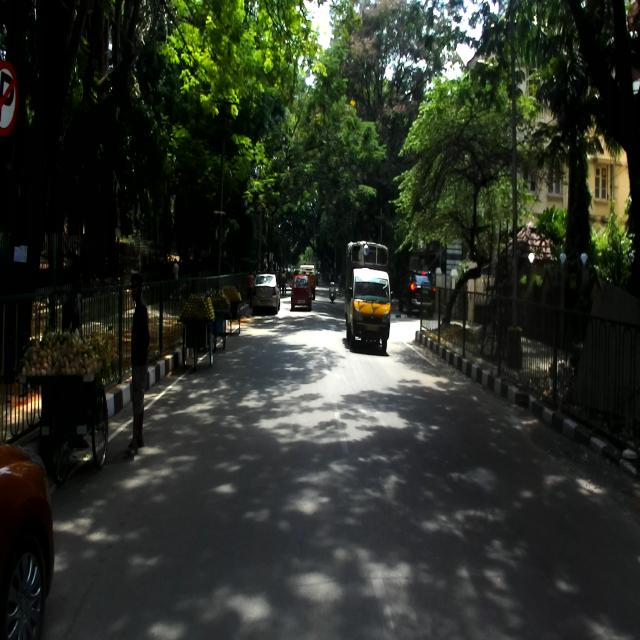truck ahead at: (339, 236, 397, 357)
